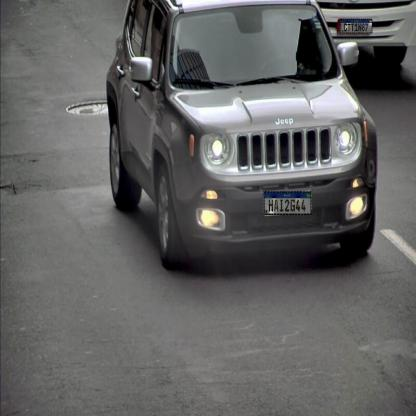PlacaM: (264, 191, 312, 215), (341, 19, 372, 33)
